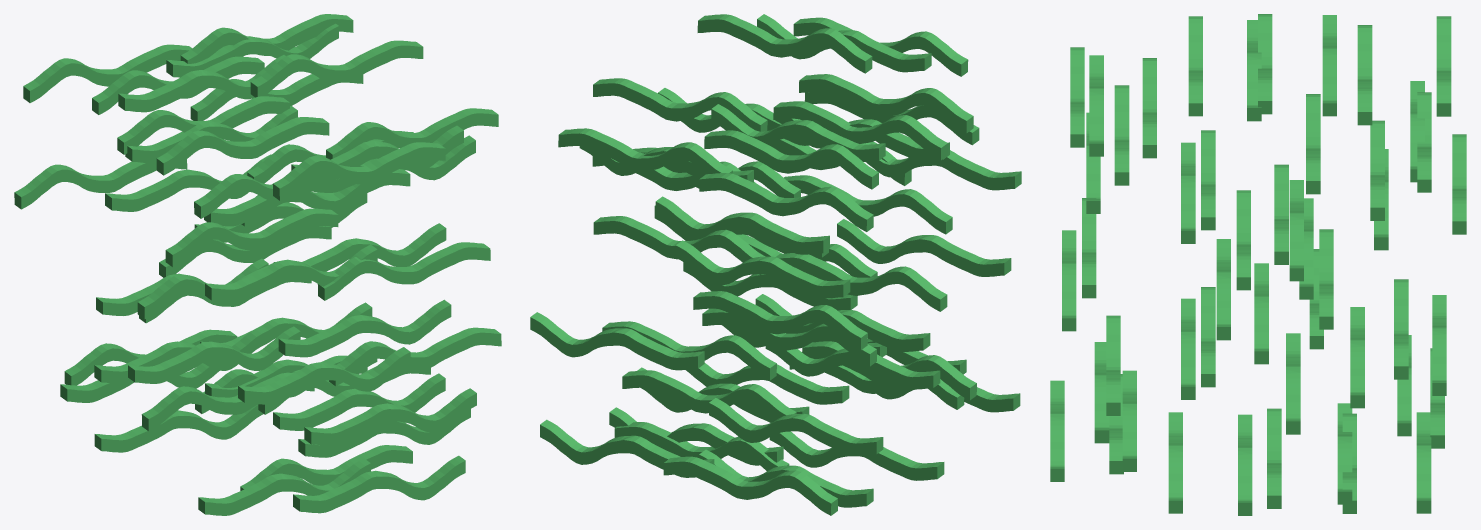
The model's file is Wind.obj.
The picture shows the model from 3 angles, left to right: view 1: azimuth 30°, elevation 25°; view 2: azimuth 150°, elevation 25°; view 3: azimuth 270°, elevation 25°; orthographic projection. The views are drawn at different scales.
Parts seen in each view (by area): view 1: 立方体.011, 立方体.001; view 2: 立方体.001, 立方体.011; view 3: 立方体.001, 立方体.011.
Part boxes in pixels (left/top/right/bottom): 立方体.011: left=60, top=23, right=476, bottom=515; 立方体.001: left=14, top=14, right=501, bottom=490; 立方体.001: left=558, top=14, right=979, bottom=515; 立方体.011: left=530, top=14, right=1021, bottom=507; 立方体.001: left=1070, top=14, right=1466, bottom=513; 立方体.011: left=1050, top=15, right=1446, bottom=515.
Bounding box in the file's own units: 1.97 × 1.99 × 1.98.
